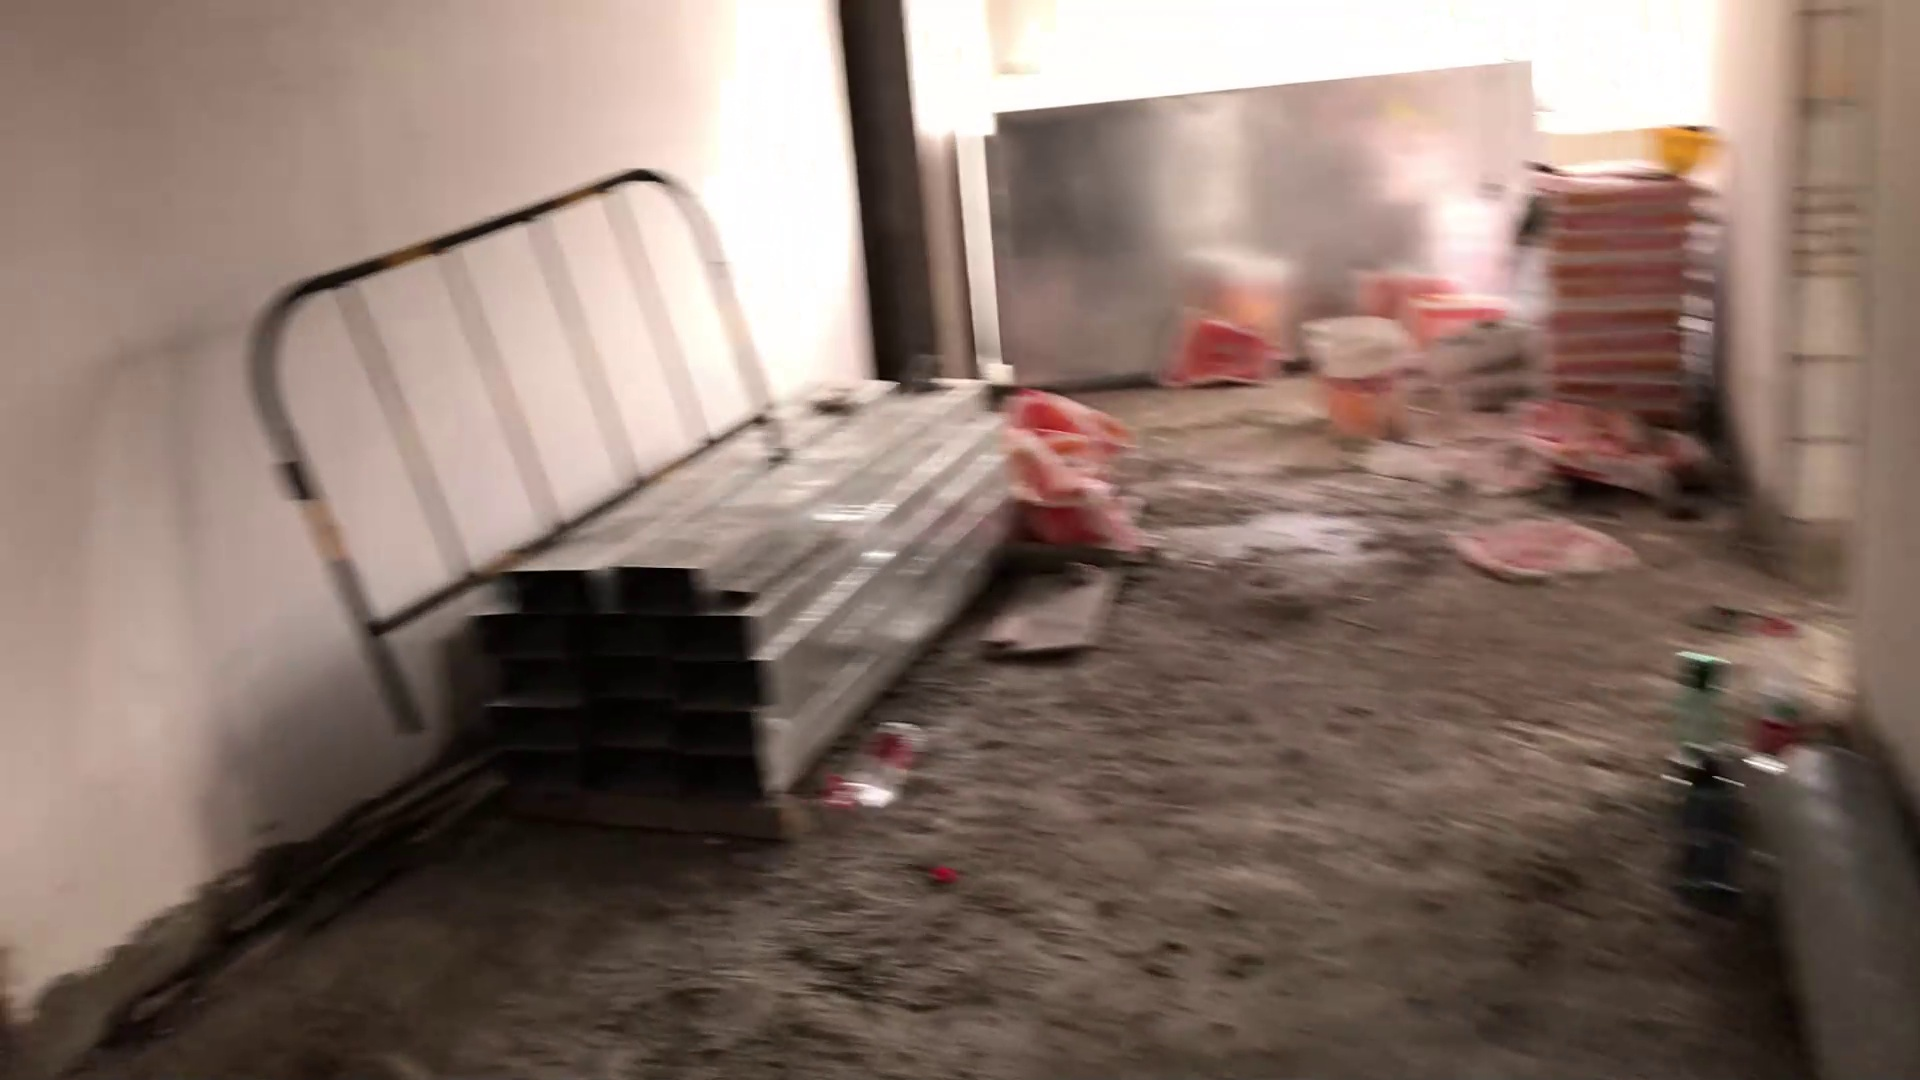fence: (196, 173, 818, 585)
helmet: (1644, 113, 1721, 178)
